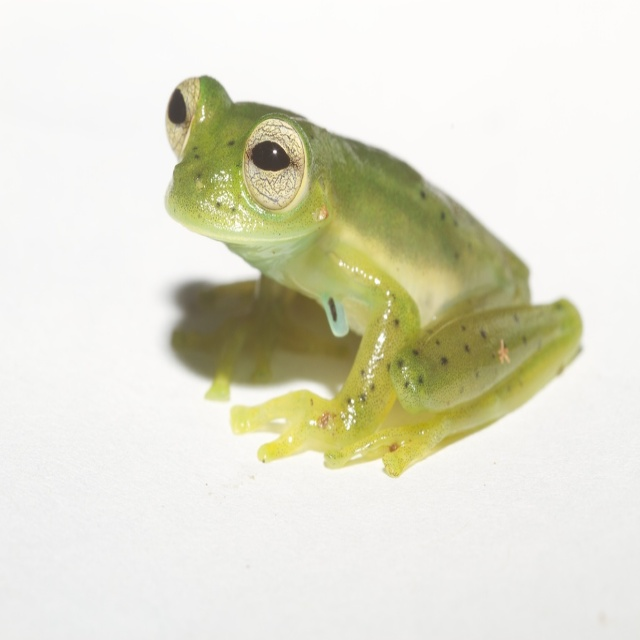Frog: (163, 74, 584, 477)
